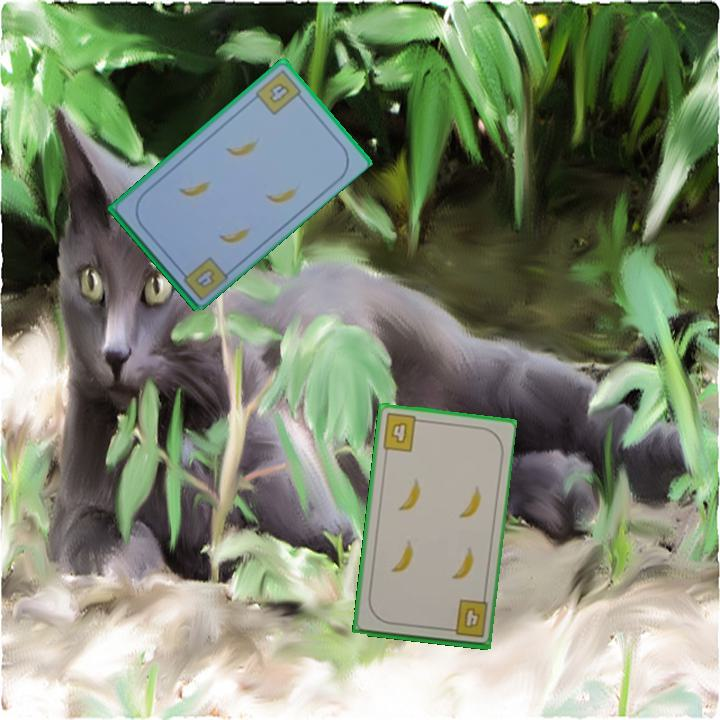4b: (252, 66, 307, 118), (443, 596, 491, 641), (379, 410, 426, 455), (191, 264, 218, 291)
